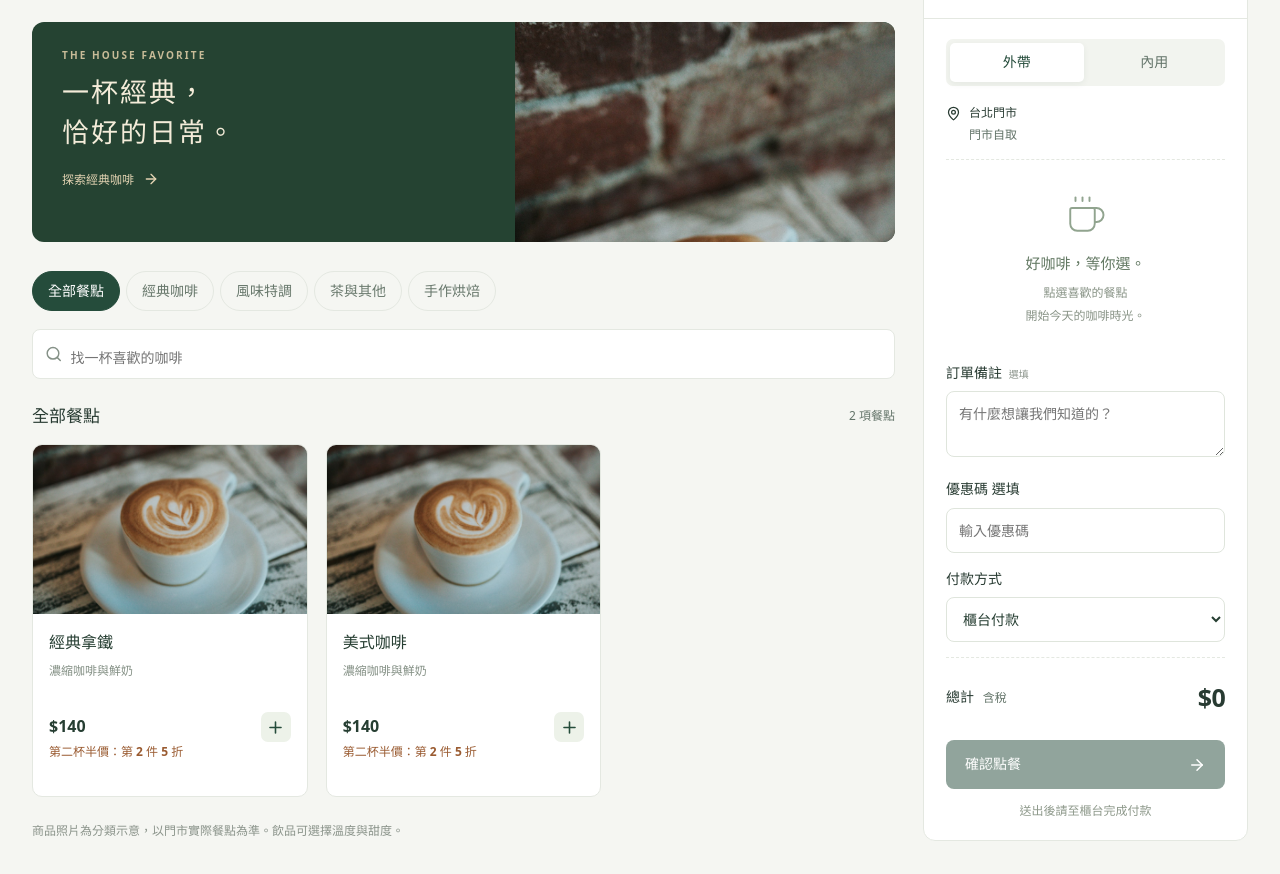
Test: MenuView 可見性 › 分類促銷會跨不同商品累加件數
(page scrolled)
What coordinates should you click on to do the following:
click the button "經典拿鐵 濃縮咖啡與鮮奶 $140 第二杯半價：第 2 件 5 折"
I would click on:
 (170, 530)
Its box is [32,444,308,797].
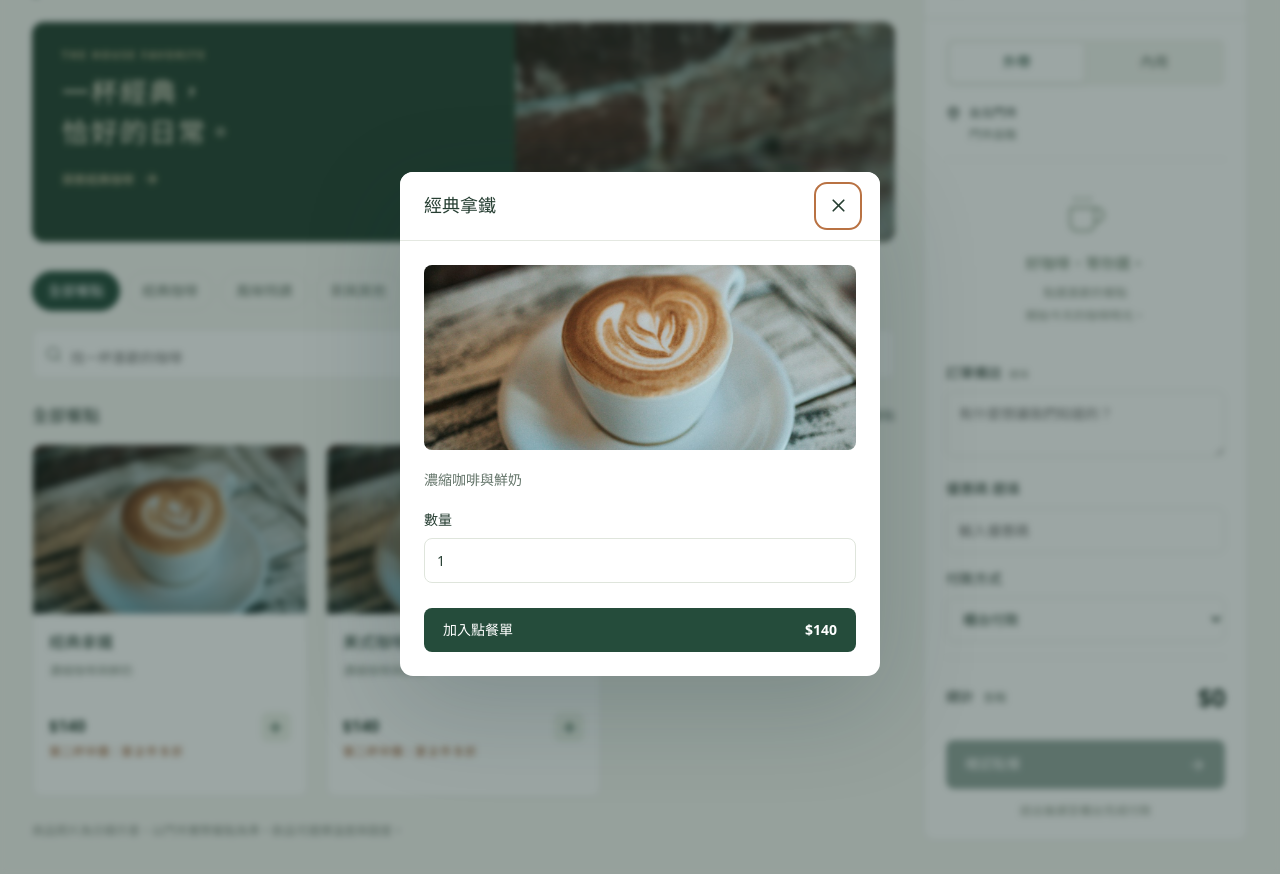
Now the button "加入點餐單 $140" is shown
What coordinates should you click on to do the following:
click the button "加入點餐單 $140"
I would click on:
 (478, 630)
Its box is [424,608,856,652].
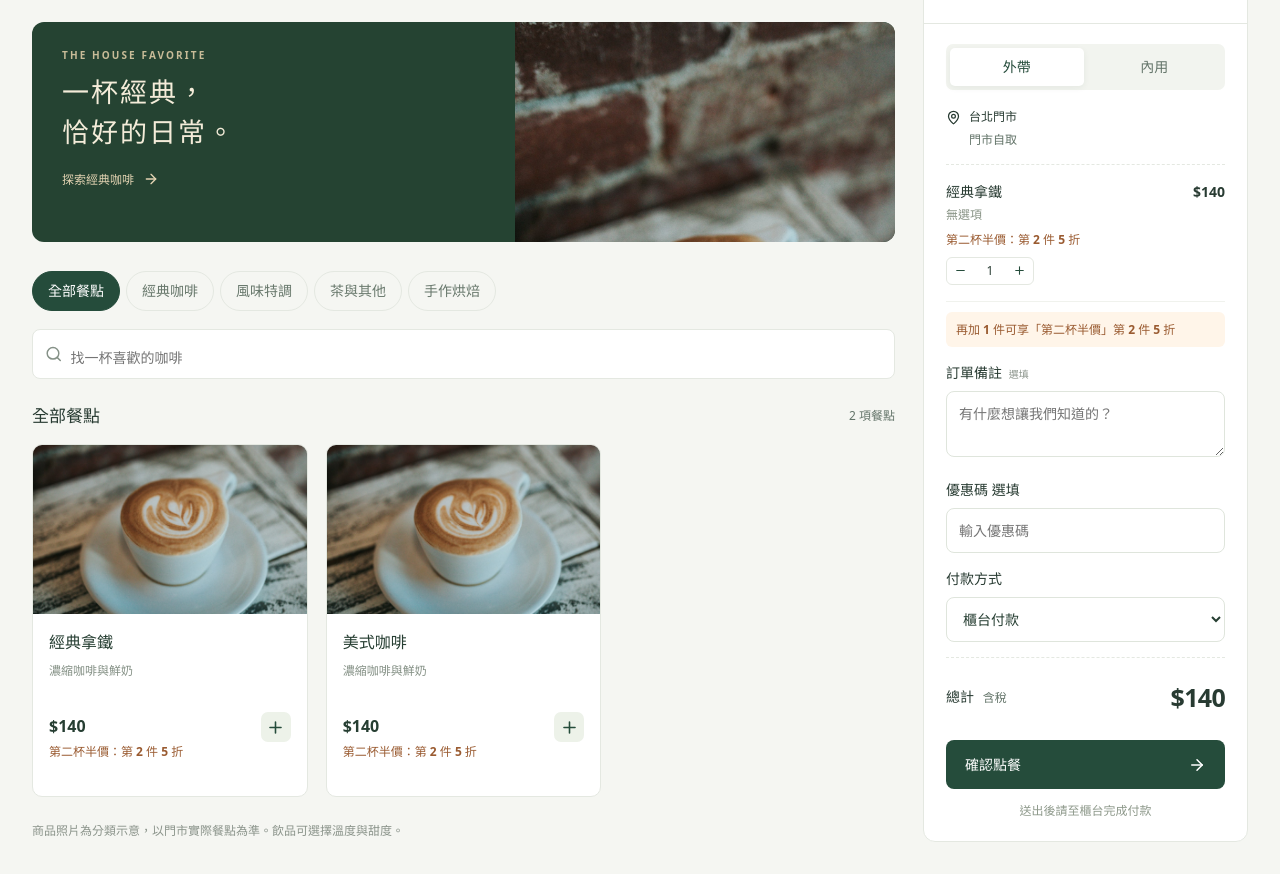
What coordinates should you click on to do the following:
click the button "美式咖啡 濃縮咖啡與鮮奶 $140 第二杯半價：第 2 件 5 折"
I would click on:
 (463, 530)
Its box is [326,444,601,797].
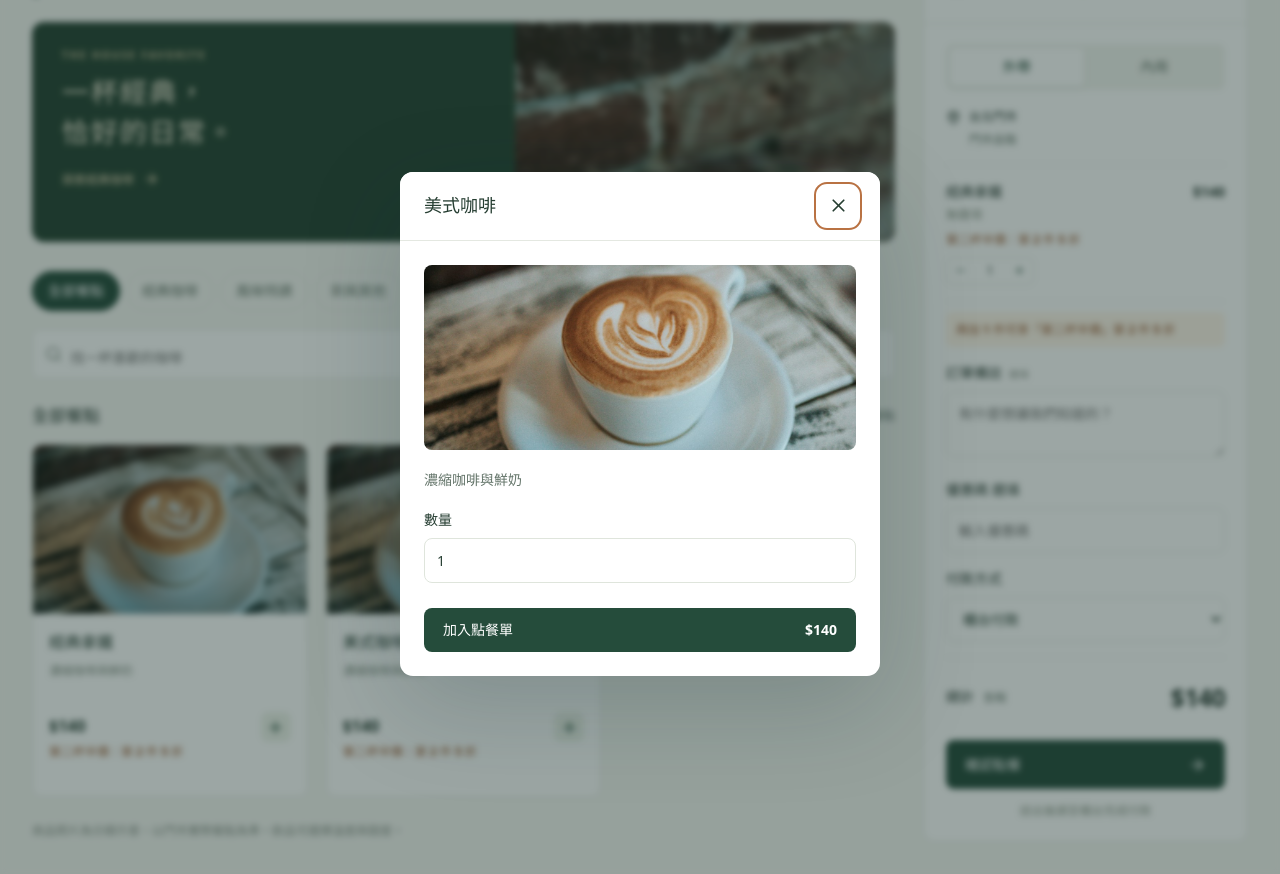
Now the button "加入點餐單 $140" is shown
What coordinates should you click on to do the following:
click the button "加入點餐單 $140"
I would click on:
 (478, 630)
Its box is [424,608,856,652].
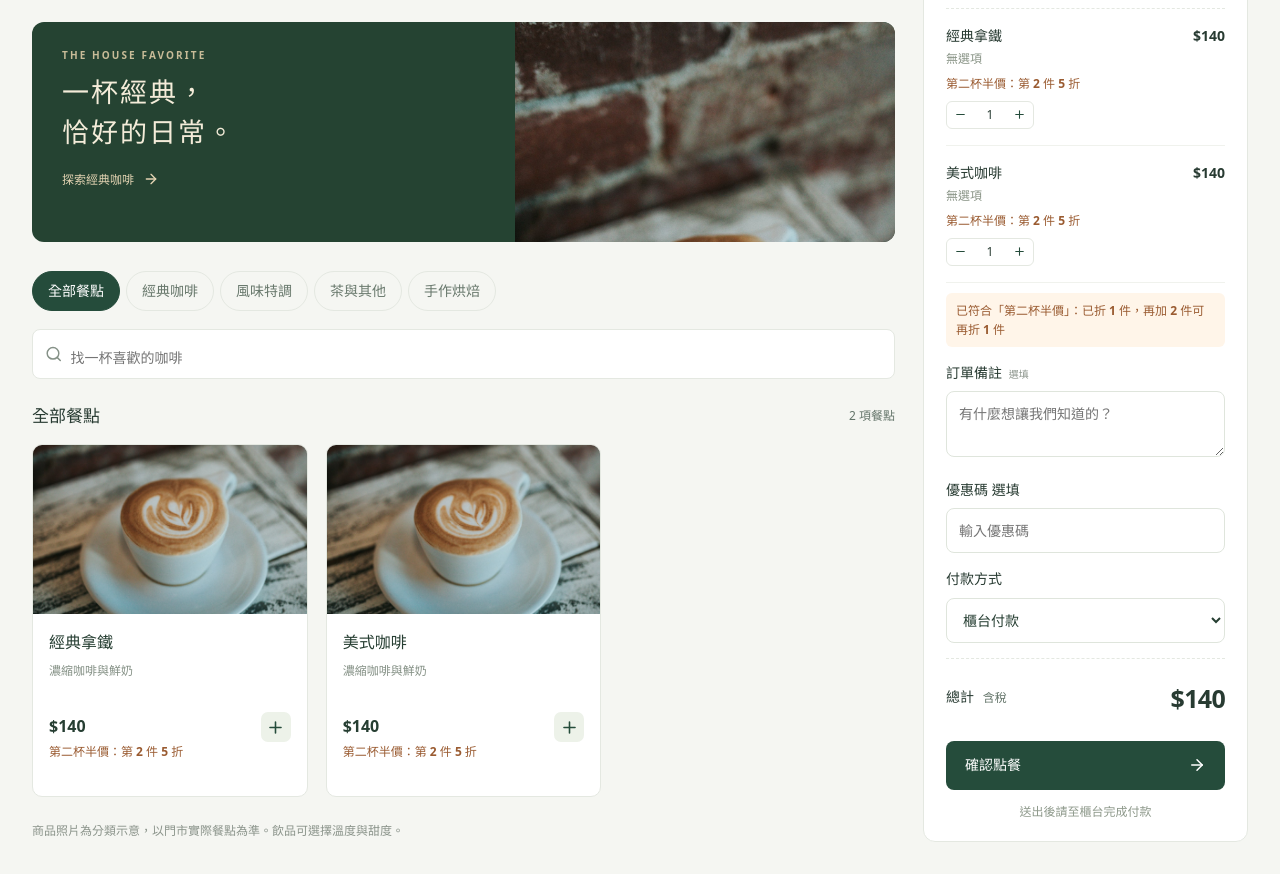
Now the number of elements with class "cart-promotion-progress" is 1, box [946,292,1225,347]
Now the number of elements with class "cart-line-promo" is 2, box [946,74,1080,91]; [946,211,1080,228]
Now the text with class "cart-promotion-progress" shows "已折 1 件", box [956,302,1204,338]
